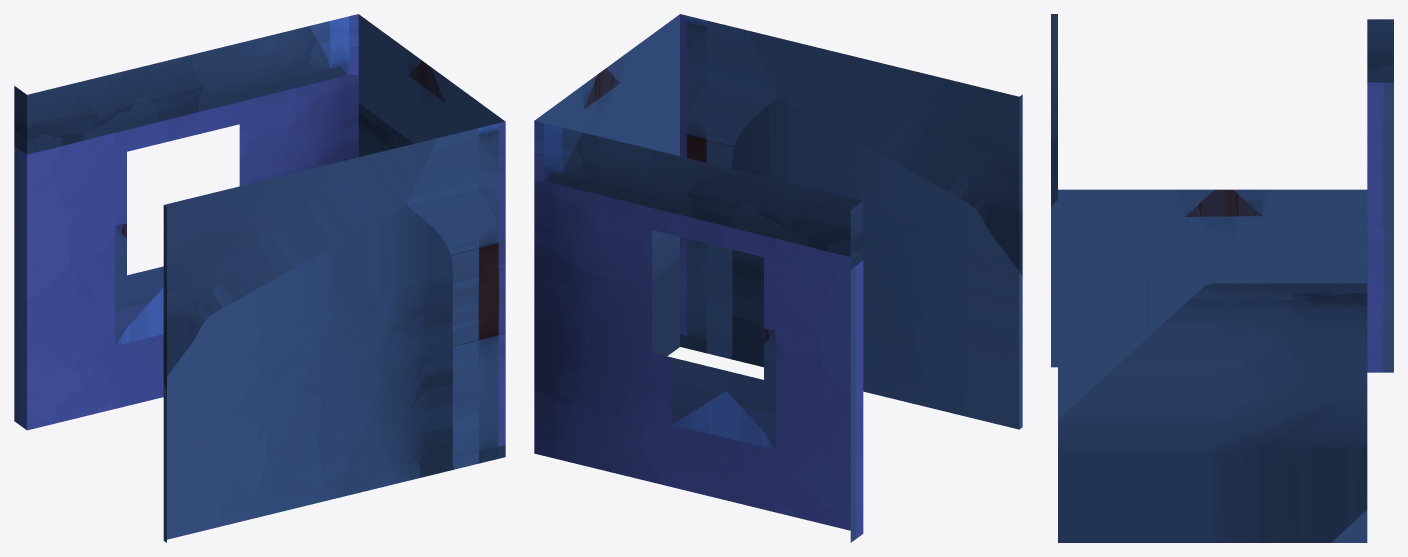
The model's file is elevatorwalls_inlobby_3ds.fbx.
3 views of the same model, side by side, from view 1: azimuth 30°, elevation 25°; view 2: azimuth 150°, elevation 25°; view 3: azimuth 270°, elevation 25° (orthographic). The views are drawn at different scales.
Visible parts, largest first — view 1: elevatorwalls_inlobby; view 2: elevatorwalls_inlobby; view 3: elevatorwalls_inlobby.
Boxes of the visible parts, x1,y1,x2,y2 form: elevatorwalls_inlobby: (14,14,505,542); elevatorwalls_inlobby: (534,14,1022,542); elevatorwalls_inlobby: (1051,14,1393,542).
Bounding box in the file's own units: 7.17 × 6.72 × 5.91.
Materials: 1 (1 with a texture image).
